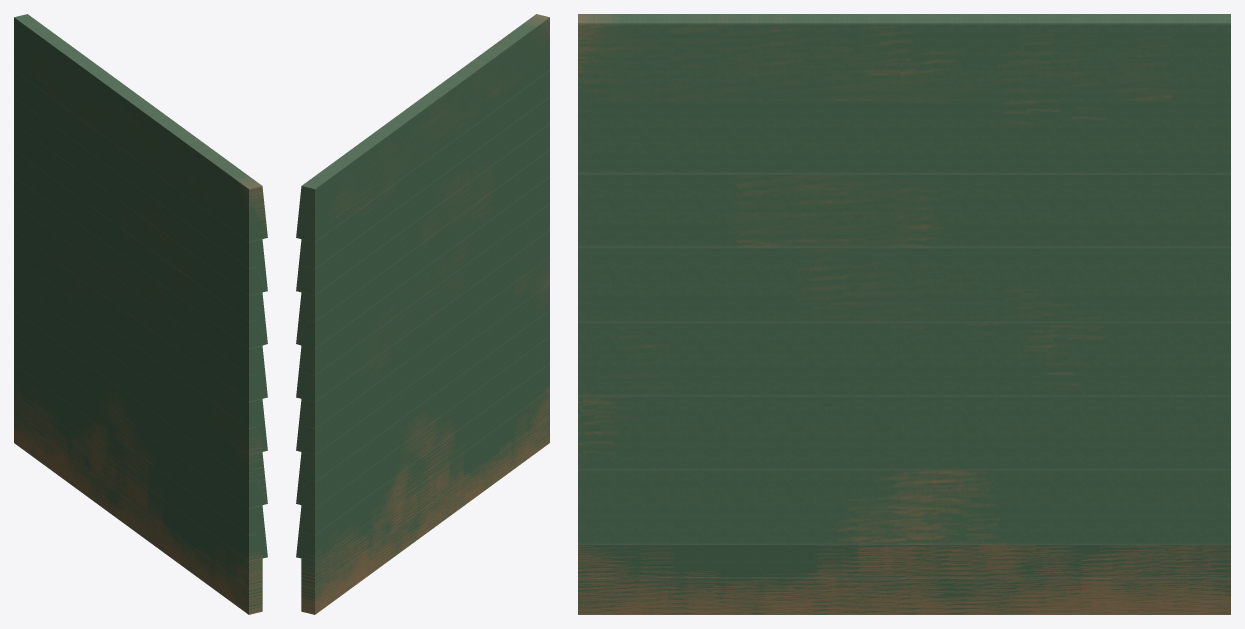
The model's file is Wall.fbx.
The picture shows the model from 3 angles, left to right: view 1: azimuth 30°, elevation 25°; view 2: azimuth 150°, elevation 25°; view 3: azimuth 270°, elevation 25°; orthographic projection. The views are drawn at different scales.
Parts seen in each view (by area): view 1: Wall; view 2: Wall; view 3: Wall.
Boxes of the visible parts, x1=… form: Wall: x1=14, y1=14, x2=267, y2=614; Wall: x1=296, y1=14, x2=549, y2=614; Wall: x1=578, y1=14, x2=1230, y2=614.
Bounding box in the file's own units: 14.77 × 316 × 316.
